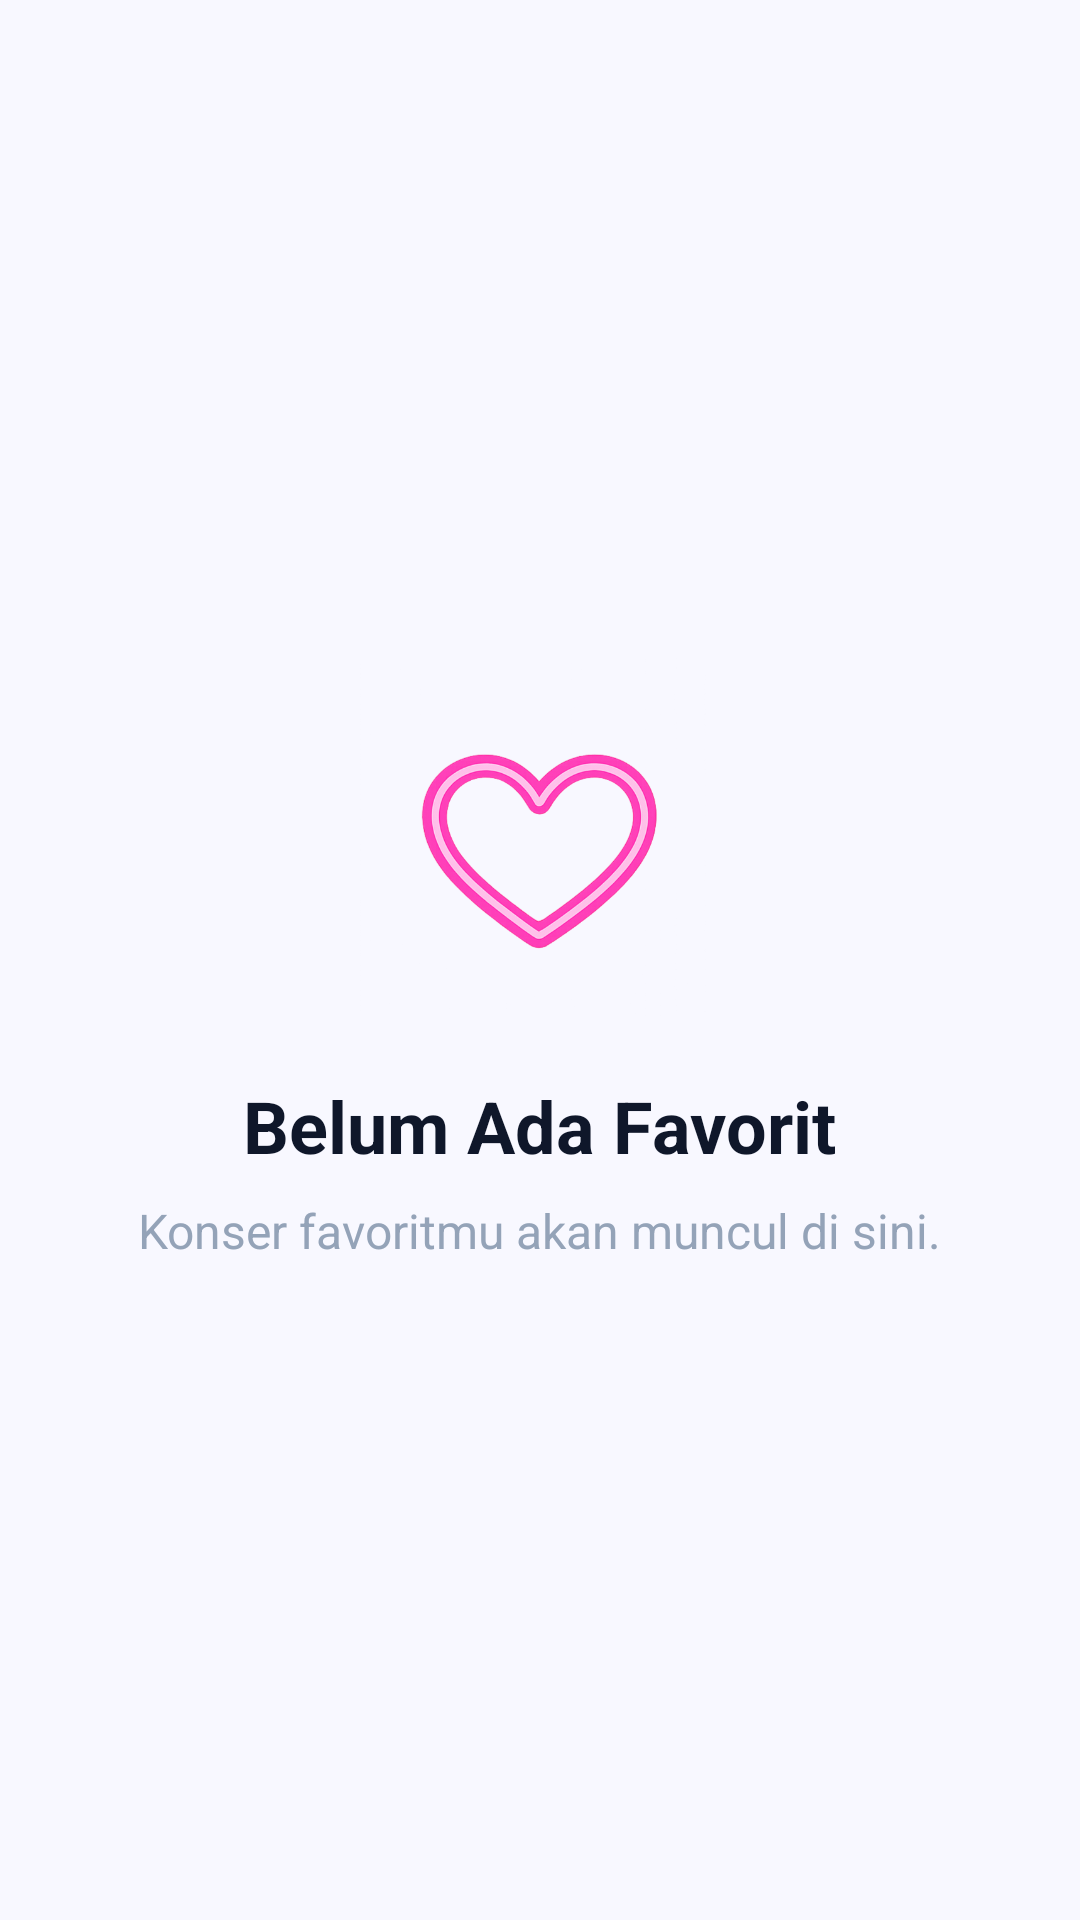

Icon click points for this 1080w x 1920h phone screenshot, format (x=x, y=y):
favorite: (x=539, y=851)
